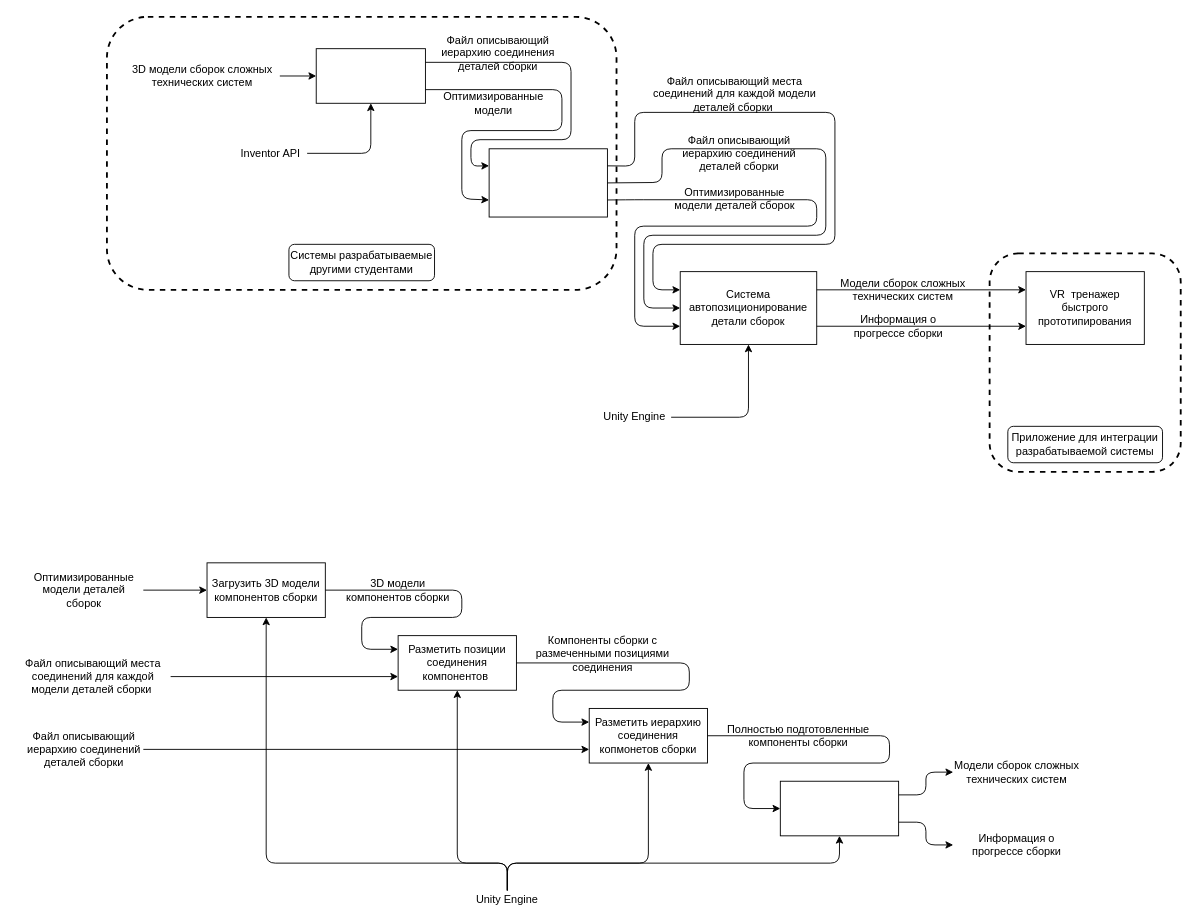
Some shapes in this 1197 by 924 pixel diagram are drawn without their labels. Each missing label, with the box of its shape:
Отслеживать состояние сборки: (779, 780, 899, 836)
Система интеграции базы данных для хранение моделей компонентов сборки: (488, 148, 607, 217)
Система экспорт моделей сложных технический систем: (315, 48, 425, 103)
